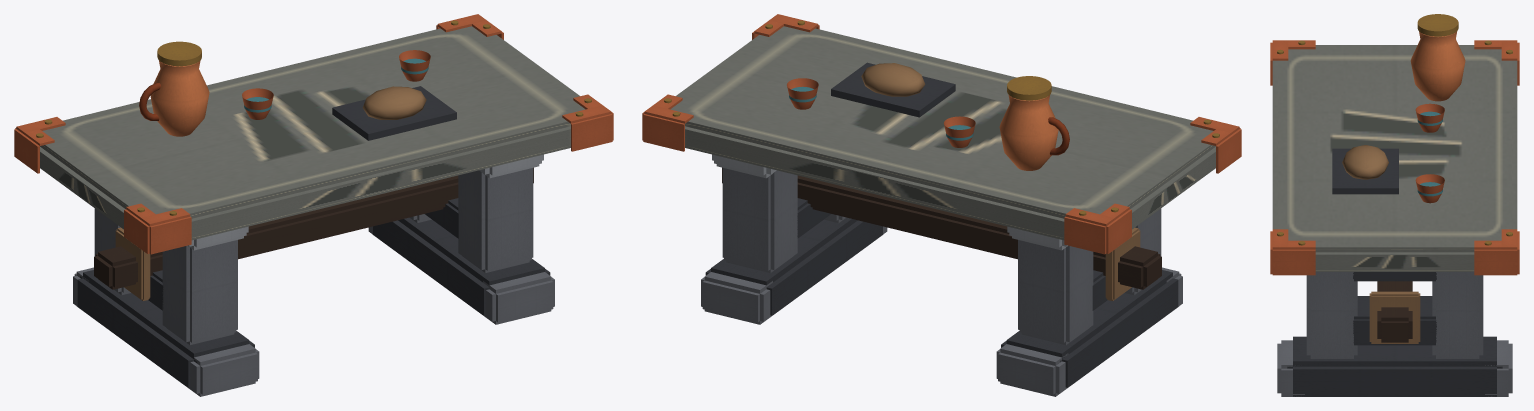
Rendered from table_stone_refectory.glb.
3 renders of one model, left to right at view 1: azimuth 30°, elevation 25°; view 2: azimuth 150°, elevation 25°; view 3: azimuth 270°, elevation 25°, orthographic. The views are drawn at different scales.
Parts seen in each view (by area): view 1: table_stone_refectory; view 2: table_stone_refectory; view 3: table_stone_refectory.
Boxes of the visible parts, <box> form: table_stone_refectory: <box>14,14,613,396</box>; table_stone_refectory: <box>642,14,1241,396</box>; table_stone_refectory: <box>1270,14,1519,396</box>.
Size of the model in its own units: 2.52 by 1.38 by 1.27.
Materials: 1 (1 with a texture image).
